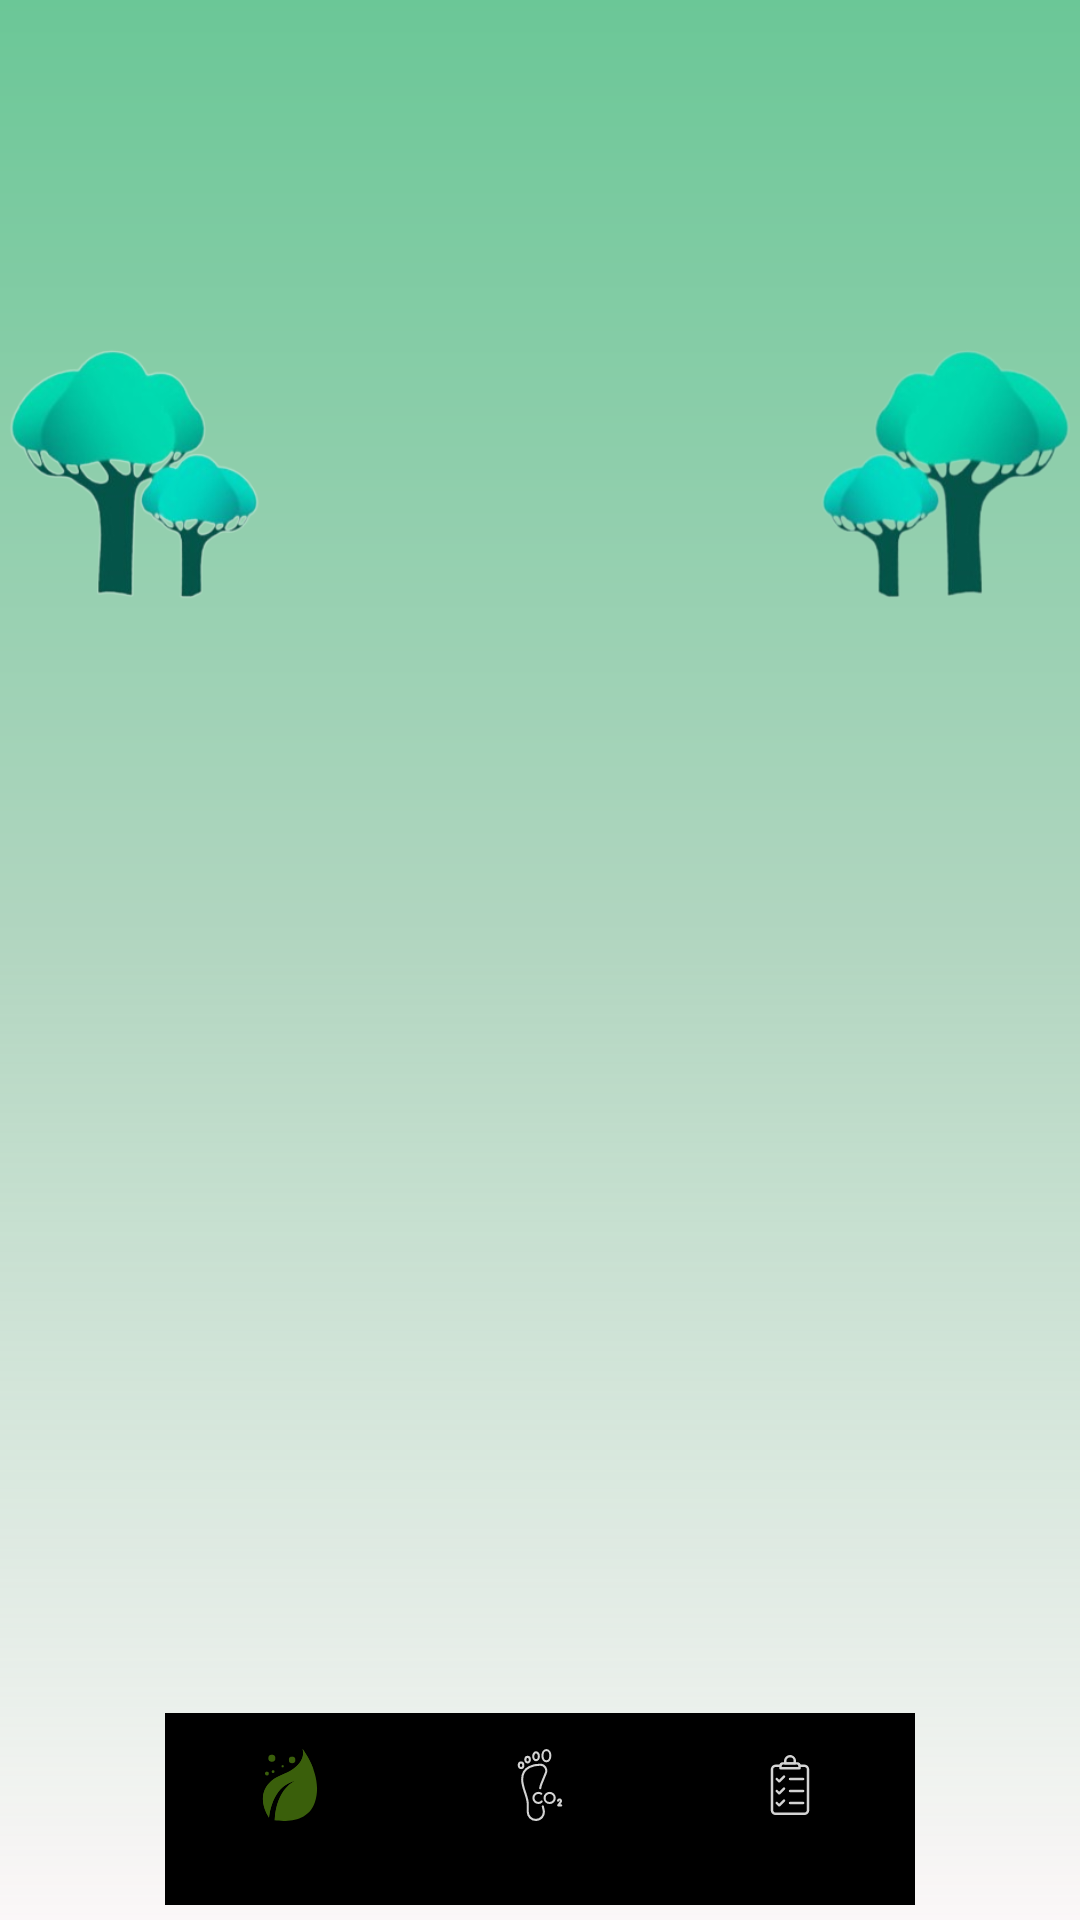

Icons on this 1080x1920 Android screen, each with its box as (x1, y1, x2, y2):
homelefttree: (0, 350, 270, 624)
homerighttree: (810, 351, 1080, 624)
